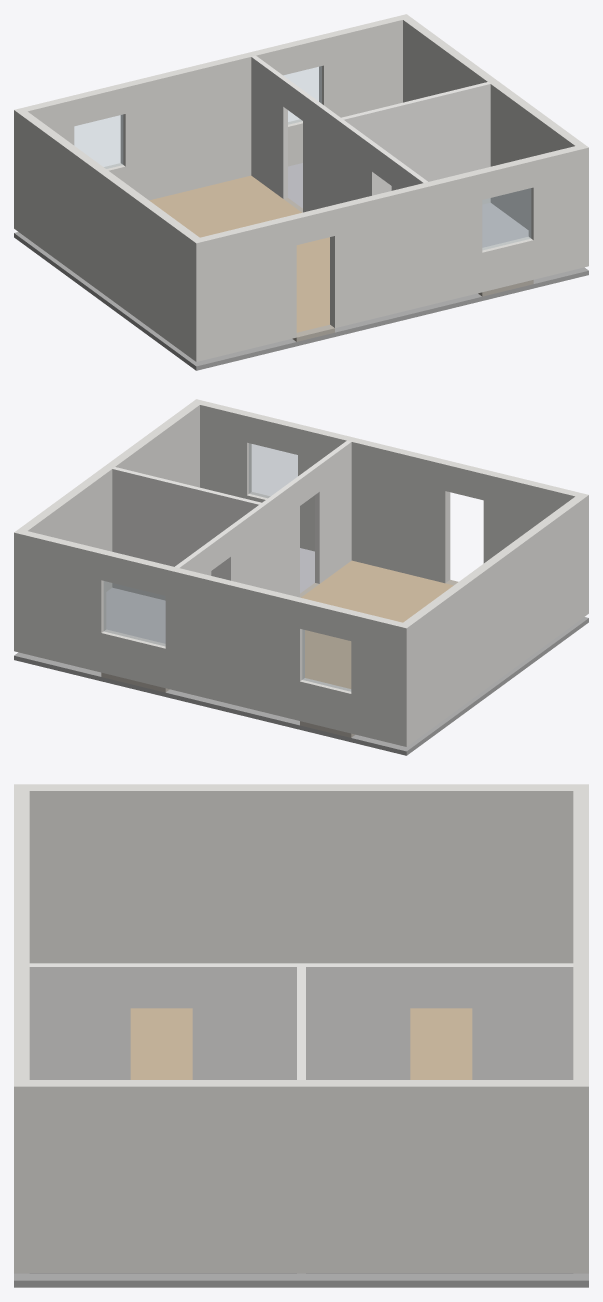
File: house.glb
The picture shows the model from 3 angles, top to bottom: view 1: azimuth 30°, elevation 25°; view 2: azimuth 150°, elevation 25°; view 3: azimuth 270°, elevation 25°; orthographic projection. The views are drawn at different scales.
Parts seen in each view (by area): view 1: wall_ext_3, wall_ext_1, wall_ext_2, wall_ext_4, wall_int_12, oak_20, slab_29, wall_int_14, glass_19, wall_ext_10, glass_18, wall_ext_7 (+10 smaller); view 2: wall_ext_3, wall_ext_1, wall_ext_4, wall_int_12, wall_ext_2, oak_20, slab_29, wall_int_13, glass_17, wall_ext_6, carpet_22, glass_18 (+10 smaller); view 3: wall_ext_1, wall_ext_3, wall_int_12, wall_int_13, wall_int_14, oak_20, slab_29, wall_int_15, wall_int_16, wall_ext_2, wall_ext_4, wall_ext_7.
Boxes of the visible parts, bbox=[...] form: wall_ext_3: bbox=[14, 96, 296, 361]; wall_ext_1: bbox=[319, 14, 588, 279]; wall_ext_2: bbox=[330, 170, 482, 327]; wall_ext_4: bbox=[120, 51, 259, 200]; wall_int_12: bbox=[303, 82, 490, 212]; oak_20: bbox=[149, 175, 329, 332]; slab_29: bbox=[14, 232, 588, 370]; wall_int_14: bbox=[251, 55, 287, 198]; glass_19: bbox=[482, 188, 530, 249]; wall_ext_10: bbox=[482, 236, 533, 292]; glass_18: bbox=[74, 115, 122, 168]; wall_ext_7: bbox=[255, 35, 323, 75]; wall_ext_3: bbox=[351, 470, 588, 746]; wall_ext_1: bbox=[14, 399, 251, 672]; wall_ext_4: bbox=[165, 566, 304, 720]; wall_int_12: bbox=[112, 467, 299, 600]; wall_ext_2: bbox=[298, 425, 450, 583]; oak_20: bbox=[301, 560, 453, 688]; slab_29: bbox=[14, 617, 588, 755]; wall_int_13: bbox=[315, 440, 351, 583]; glass_17: bbox=[104, 581, 165, 645]; wall_ext_6: bbox=[101, 629, 165, 688]; carpet_22: bbox=[106, 587, 165, 643]; glass_18: bbox=[302, 629, 350, 691]; wall_ext_1: bbox=[14, 1019, 588, 1273]; wall_ext_3: bbox=[14, 784, 588, 963]; wall_int_12: bbox=[192, 963, 410, 1079]; wall_int_13: bbox=[29, 963, 130, 1079]; wall_int_14: bbox=[472, 963, 573, 1079]; oak_20: bbox=[130, 1008, 472, 1079]; slab_29: bbox=[14, 1273, 588, 1287]; wall_int_15: bbox=[130, 963, 192, 1008]; wall_int_16: bbox=[410, 963, 472, 1008]; wall_ext_2: bbox=[14, 891, 29, 1004]; wall_ext_4: bbox=[573, 866, 588, 969]; wall_ext_7: bbox=[573, 970, 588, 1019].
Bounding box in the file's own units: 9.35 × 2.9 × 7.52.
